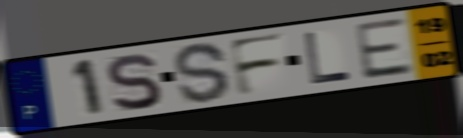1: (71, 56, 106, 119)
E: (351, 16, 417, 83)
F: (226, 31, 287, 100)
L: (301, 29, 353, 86)
S: (171, 40, 233, 105), (103, 52, 165, 114)
